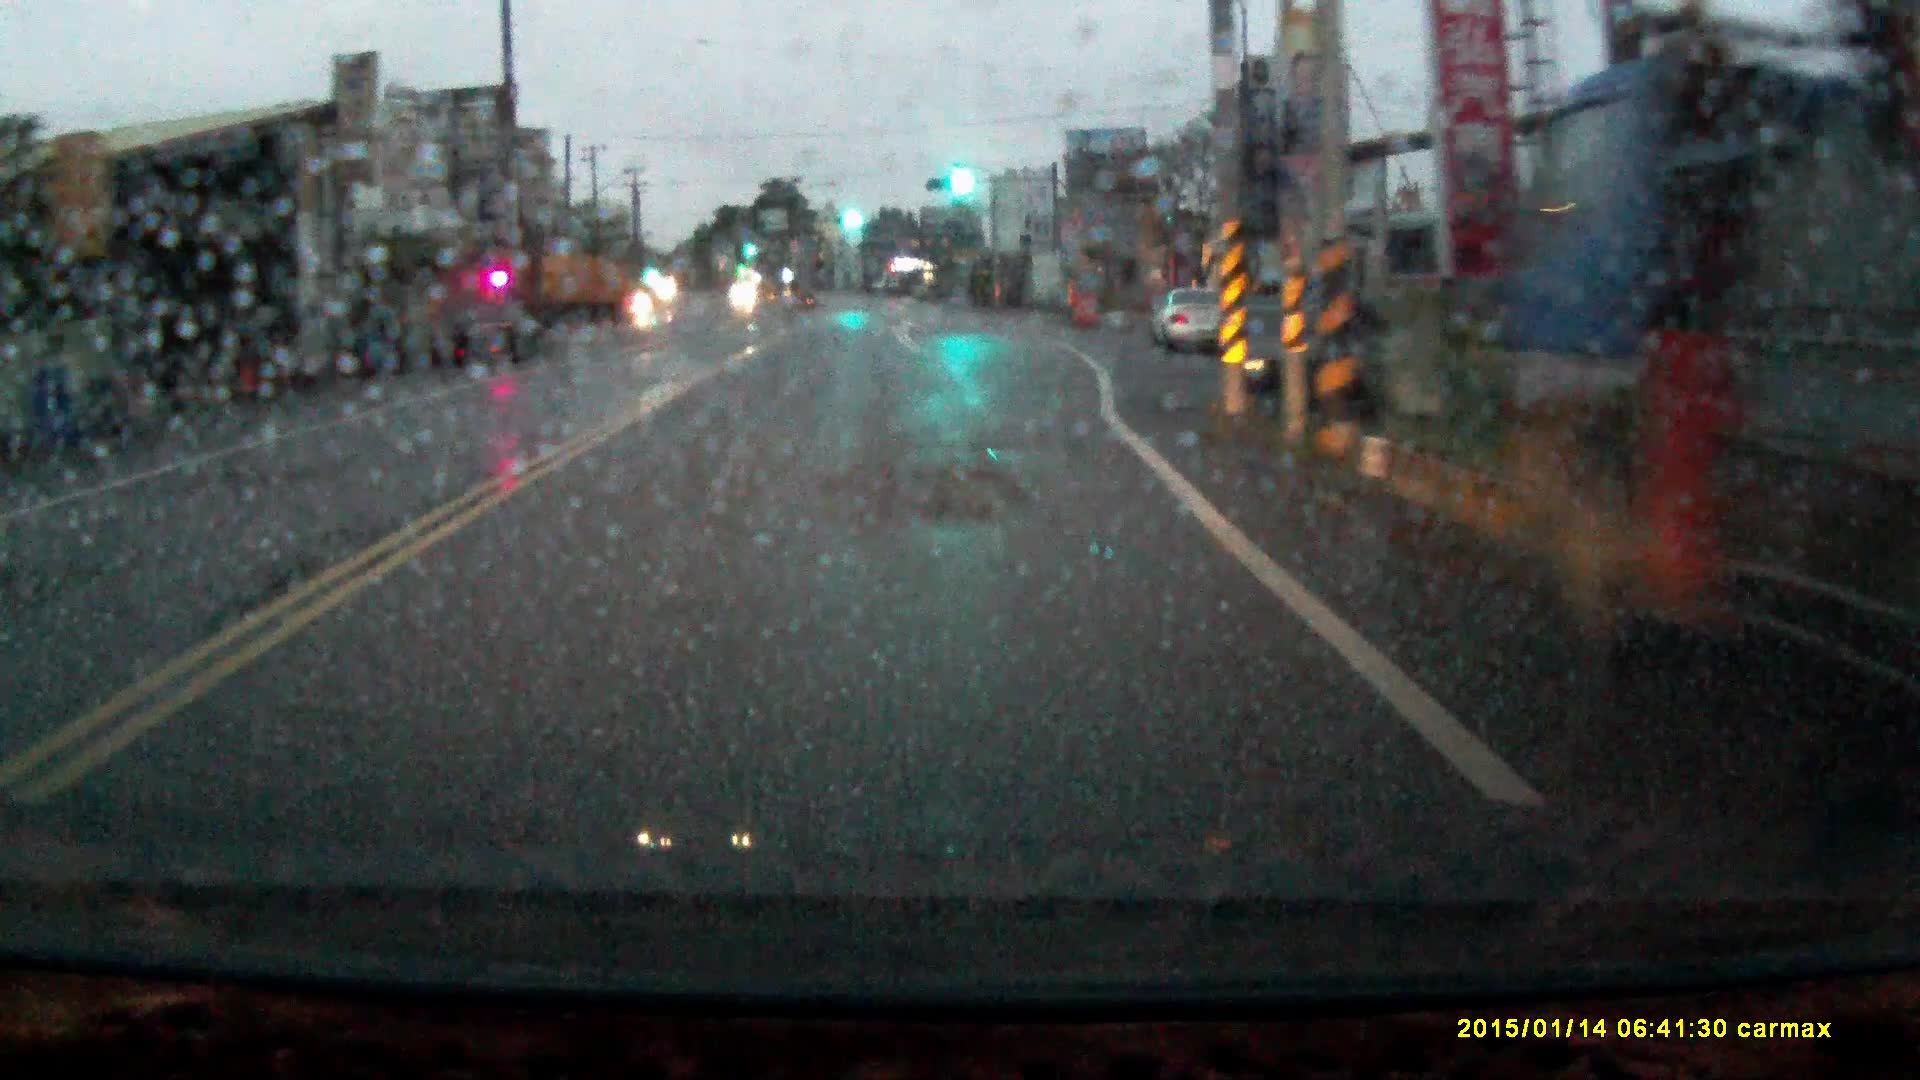vehicle: (1211, 293, 1361, 418), (517, 258, 632, 328), (444, 305, 550, 371), (1149, 287, 1222, 352)
